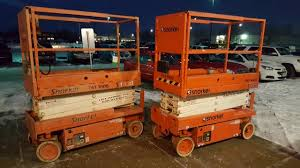Scissor Lift: (16, 6, 145, 162), (149, 10, 266, 159)
